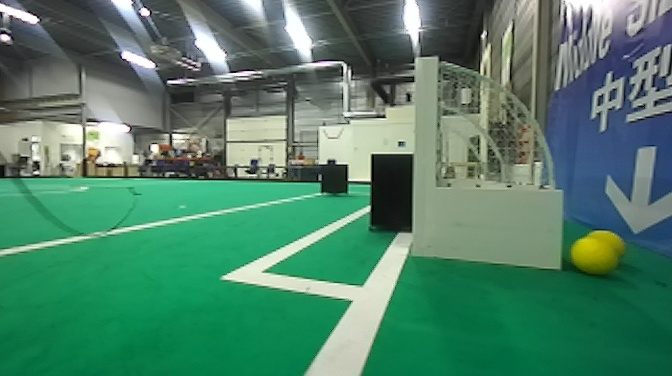ball: (570, 234, 617, 277), (582, 227, 625, 264)
goalpost: (412, 52, 440, 260)
